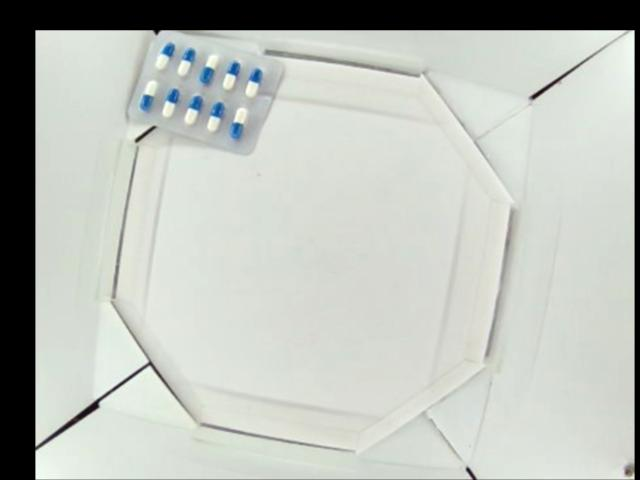Medicine: (125, 31, 286, 152)
